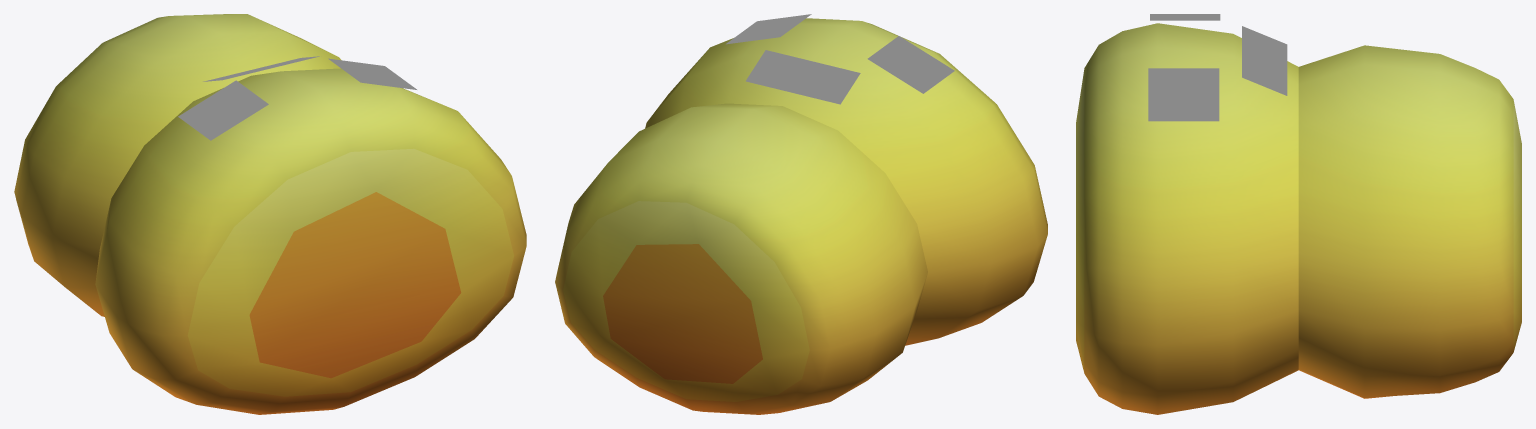
The model's file is sweet_tube_half_yellow_smile.fbx.
3 views of the same model, side by side, from view 1: azimuth 30°, elevation 25°; view 2: azimuth 150°, elevation 25°; view 3: azimuth 270°, elevation 25° (orthographic). The views are drawn at different scales.
Visible parts, largest first — view 1: pie_half_yellow, smile_pie; view 2: pie_half_yellow, smile_pie; view 3: pie_half_yellow, smile_pie.
Boxes of the visible parts, x1=… form: pie_half_yellow: x1=14, y1=14, x2=526, y2=414; smile_pie: x1=178, y1=56, x2=416, y2=140; pie_half_yellow: x1=555, y1=18, x2=1047, y2=414; smile_pie: x1=726, y1=14, x2=954, y2=104; pie_half_yellow: x1=1076, y1=23, x2=1521, y2=414; smile_pie: x1=1148, y1=14, x2=1287, y2=121.
Bounding box in the file's own units: 34.33 × 25.87 × 30.95.
